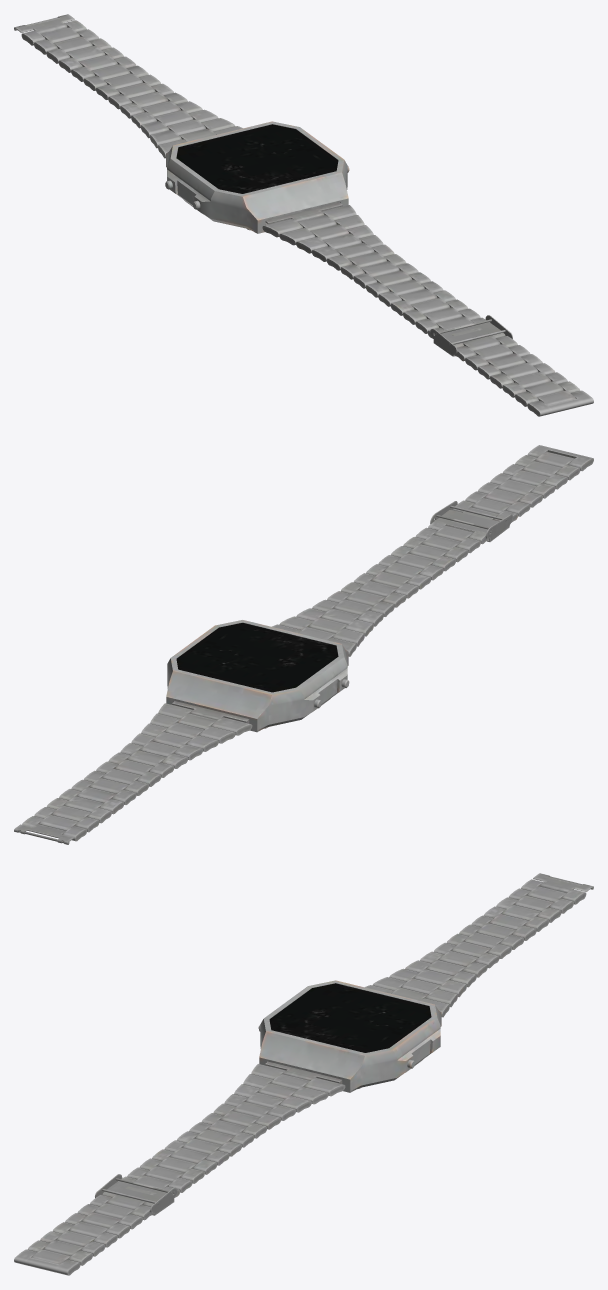
File: digital_wrist_watch.35894b2c.glb
3 renders of one model, top to bottom at view 1: azimuth 30°, elevation 25°; view 2: azimuth 150°, elevation 25°; view 3: azimuth 330°, elevation 25°, orthographic.
Visible parts, largest first — view 1: digital_wrist_watch_strap_b, digital_wrist_watch, digital_wrist_watch_strap_a, digital_wrist_watch_clasp; view 2: digital_wrist_watch_strap_b, digital_wrist_watch, digital_wrist_watch_strap_a, digital_wrist_watch_clasp; view 3: digital_wrist_watch_strap_b, digital_wrist_watch, digital_wrist_watch_strap_a, digital_wrist_watch_clasp.
Part boxes in pixels (box(x1,y1,x2,y2)): digital_wrist_watch_strap_b: box(262, 202, 593, 416); digital_wrist_watch: box(165, 121, 349, 233); digital_wrist_watch_strap_a: box(21, 20, 242, 158); digital_wrist_watch_clasp: box(14, 14, 74, 33); digital_wrist_watch_strap_b: box(272, 445, 593, 656); digital_wrist_watch: box(166, 620, 349, 732); digital_wrist_watch_strap_a: box(22, 701, 252, 841); digital_wrist_watch_clasp: box(14, 824, 74, 844); digital_wrist_watch_strap_b: box(14, 1061, 345, 1275); digital_wrist_watch: box(258, 980, 441, 1092); digital_wrist_watch_strap_a: box(365, 879, 586, 1017); digital_wrist_watch_clasp: box(533, 873, 593, 892).
Bounding box in the file's own units: 0.1209 × 0.0277 × 0.72.
Materials: 2 (2 with a texture image).
